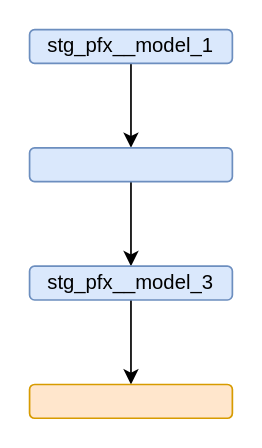
This 262x448 diagram has some shape labels left out. The shapes that lost their labels are listed below. From the top down, each one's centre as x and y in pixels, then its label:
At (x=130, y=164): "stg_pfx__model_2".
At (x=130, y=400): "mrt _pfx__model".
